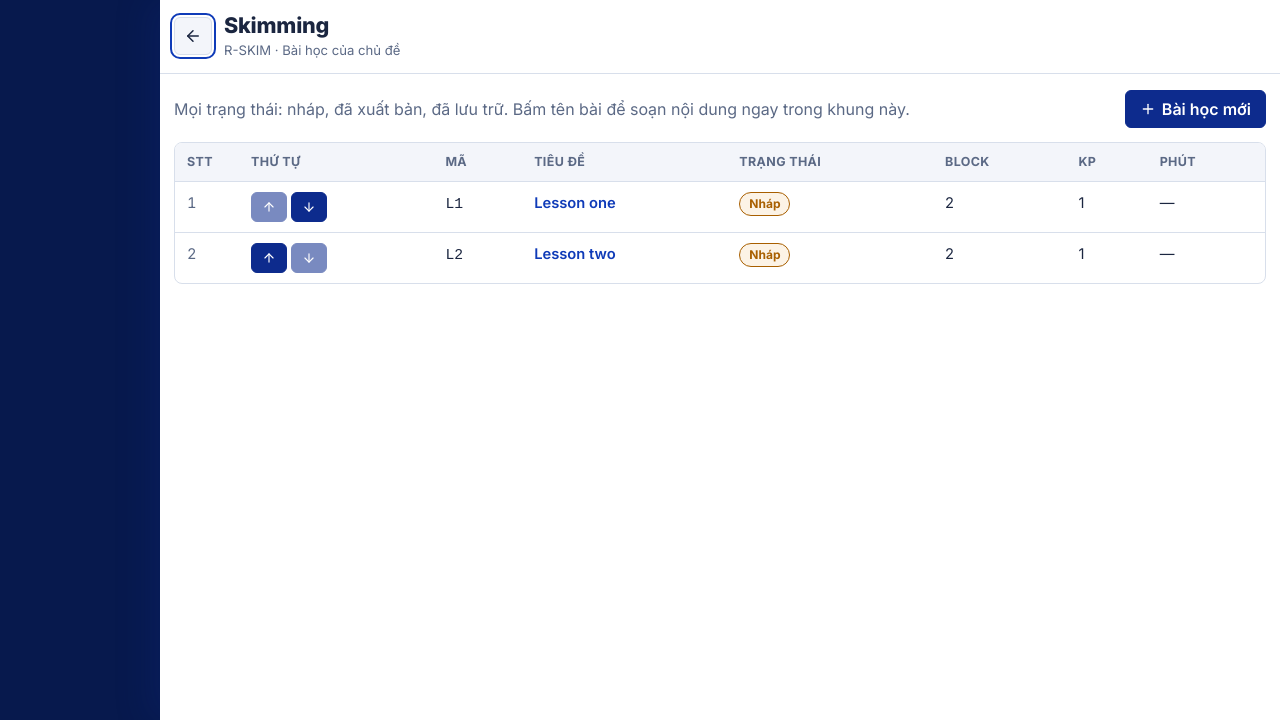
Test: TopicLessonsDrawer › shows why a reorder failed
Click the button named "Đưa Lesson one xuống": x=309, y=207 [291,192,327,222]
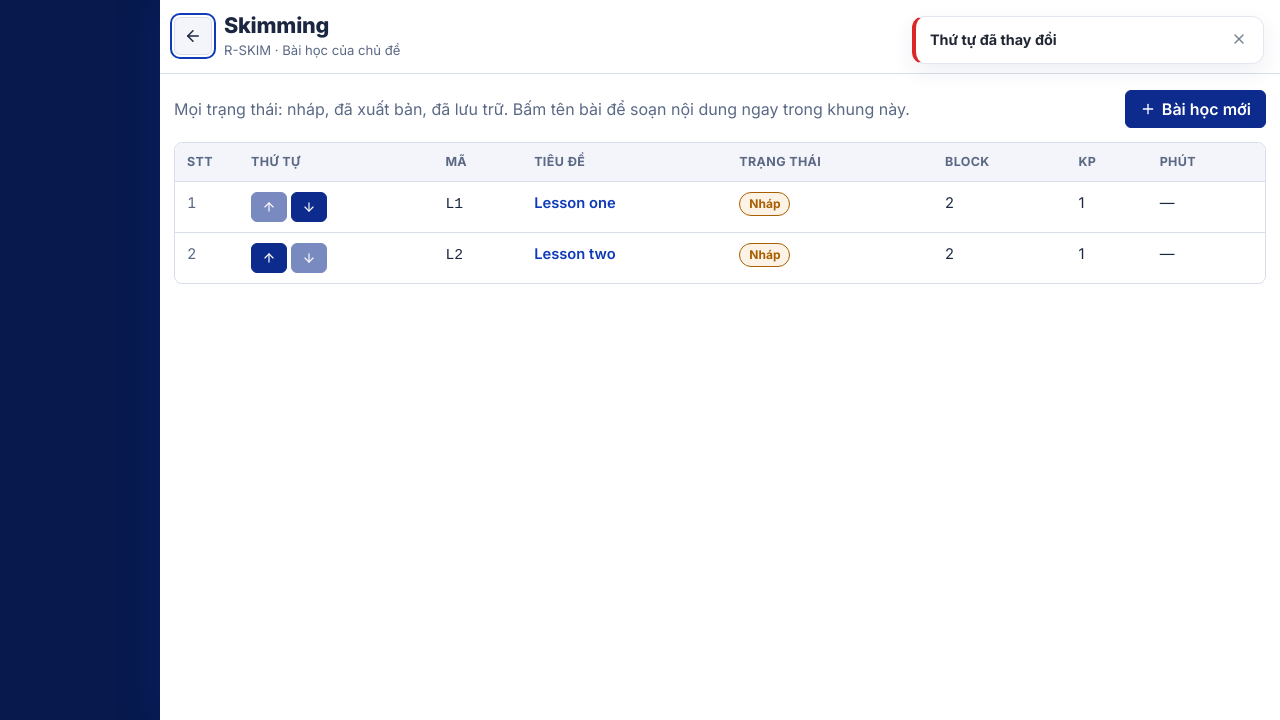
Expected: the message reads "Thứ tự đã thay đổi", [930,31,1057,48]
